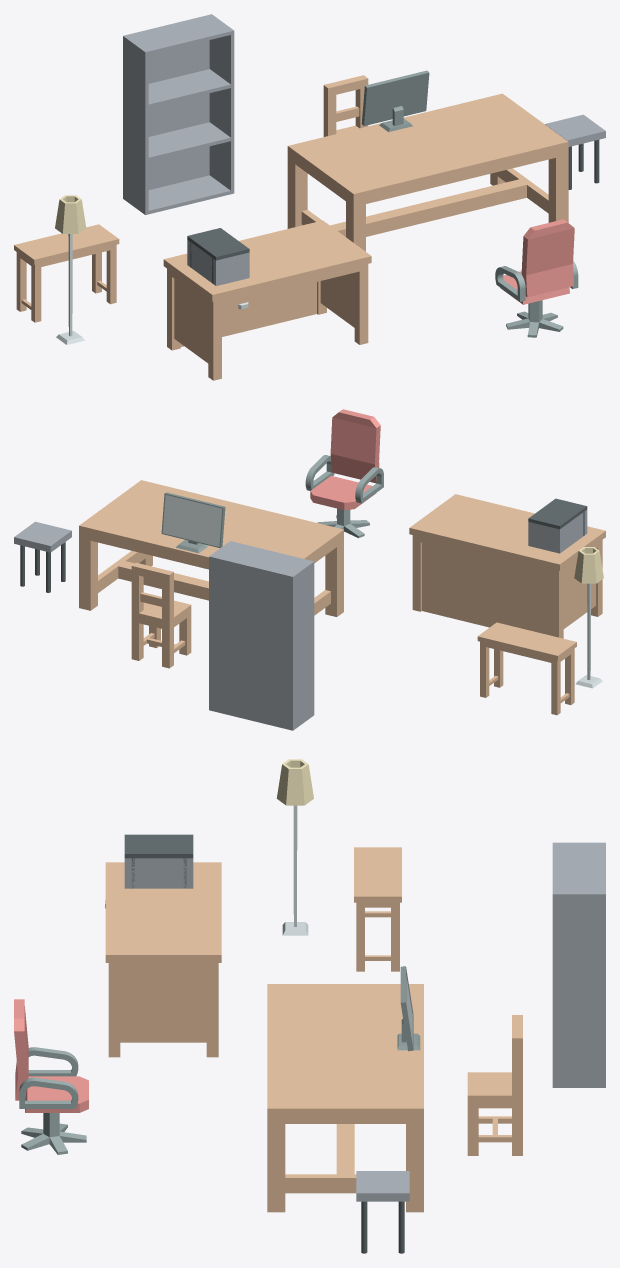
The picture shows the model from 3 angles, top to bottom: view 1: azimuth 30°, elevation 25°; view 2: azimuth 150°, elevation 25°; view 3: azimuth 270°, elevation 25°; orthographic projection. The views are drawn at different scales.
Parts seen in each view (by area): view 1: table_green__table(Clone), desk_blue__desk(Clone), shelf_orange__shelf_orange back, sidetable_brown__sideTable(Clone), deskchair_black__chair, shelf_orange__shelf_orange side_l, shelf_orange__shelf_orange side_r, monitor_gray__computerScreen(Clone), shelf_orange__shelf_orange board3, shelf_orange__shelf_orange board0, shelf_orange__shelf_orange board2, shelf_orange__shelf_orange board1 (+7 smaller); view 2: desk_blue__desk(Clone), table_green__table(Clone), shelf_orange__shelf_orange back, deskchair_black__chair, chair_cyan__chair(Clone), sidetable_brown__sideTable(Clone), shelf_orange__shelf_orange side_l, monitor_gray__computerScreen(Clone), shelf_orange__shelf_orange board3, lamp_white__lampRoundFloor(Clone), case_brown__case_brown shell, stool_purple__stool_purple seat (+3 smaller); view 3: table_green__table(Clone), desk_blue__desk(Clone), shelf_orange__shelf_orange side_r, deskchair_black__chair, sidetable_brown__sideTable(Clone), chair_cyan__chair(Clone), shelf_orange__shelf_orange board3, lamp_white__lampRoundFloor(Clone), case_brown__case_brown shell, case_brown__case_brown lid, stool_purple__stool_purple seat, deskchair_black__chairDesk(Clone) (+1 smaller).
Boxes of the visible parts, x1,y1,x2,y2 form: table_green__table(Clone): (287, 93, 568, 251); desk_blue__desk(Clone): (163, 220, 371, 380); shelf_orange__shelf_orange back: (126, 15, 209, 189); sidetable_brown__sideTable(Clone): (14, 224, 119, 322); deskchair_black__chair: (495, 219, 578, 304); shelf_orange__shelf_orange side_l: (123, 35, 148, 214); shelf_orange__shelf_orange side_r: (209, 14, 234, 194); monitor_gray__computerScreen(Clone): (361, 70, 429, 131); shelf_orange__shelf_orange board3: (128, 16, 230, 54); shelf_orange__shelf_orange board0: (148, 175, 230, 214); shelf_orange__shelf_orange board2: (148, 69, 230, 107); shelf_orange__shelf_orange board1: (148, 122, 230, 160); desk_blue__desk(Clone): (409, 494, 605, 638); table_green__table(Clone): (79, 480, 343, 616); shelf_orange__shelf_orange back: (212, 556, 290, 729); deskchair_black__chair: (305, 409, 383, 510); chair_cyan__chair(Clone): (131, 562, 191, 668); sidetable_brown__sideTable(Clone): (477, 622, 576, 715); shelf_orange__shelf_orange side_l: (290, 560, 314, 730); monitor_gray__computerScreen(Clone): (161, 492, 225, 553); shelf_orange__shelf_orange board3: (214, 541, 310, 575); lamp_white__lampRoundFloor(Clone): (574, 547, 603, 688); case_brown__case_brown shell: (528, 510, 587, 553); stool_purple__stool_purple seat: (14, 521, 71, 552); table_green__table(Clone): (267, 984, 423, 1212); desk_blue__desk(Clone): (105, 862, 221, 1057); shelf_orange__shelf_orange side_r: (552, 892, 605, 1087); deskchair_black__chair: (14, 999, 88, 1112); sidetable_brown__sideTable(Clone): (354, 847, 401, 971); chair_cyan__chair(Clone): (467, 1015, 522, 1155); shelf_orange__shelf_orange board3: (552, 844, 602, 892); lamp_white__lampRoundFloor(Clone): (276, 759, 313, 935); case_brown__case_brown shell: (124, 858, 193, 888); case_brown__case_brown lid: (124, 834, 193, 858); stool_purple__stool_purple seat: (356, 1171, 409, 1201); deskchair_black__chairDesk(Clone): (21, 1113, 86, 1154).
Size of the model in its own units: 5.15 by 1.4 by 3.88.
